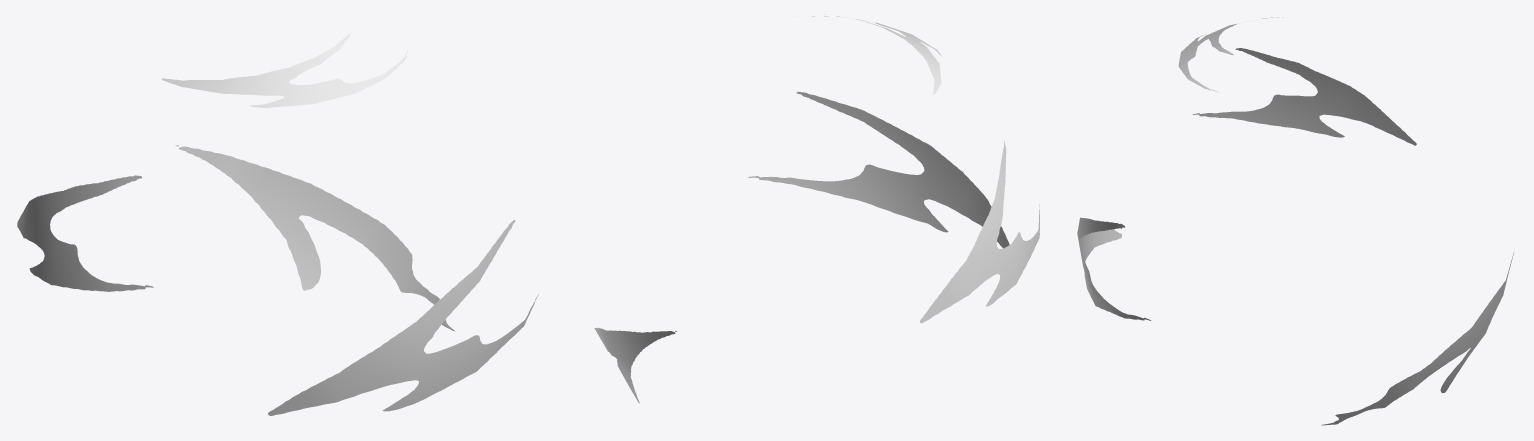
Rendered from Smoke_Spin02.FBX.
The picture shows the model from 3 angles, left to right: view 1: azimuth 30°, elevation 25°; view 2: azimuth 150°, elevation 25°; view 3: azimuth 270°, elevation 25°; orthographic projection. The views are drawn at different scales.
Visible parts, largest first — view 1: Sphere005; view 2: Sphere005; view 3: Sphere005.
Boxes of the visible parts, left/top/right/bottom form: Sphere005: left=17, top=33, right=538, bottom=415; Sphere005: left=594, top=14, right=1039, bottom=403; Sphere005: left=1077, top=17, right=1513, bottom=425.
Bounding box in the file's own units: 72.84 × 57.45 × 74.66.
